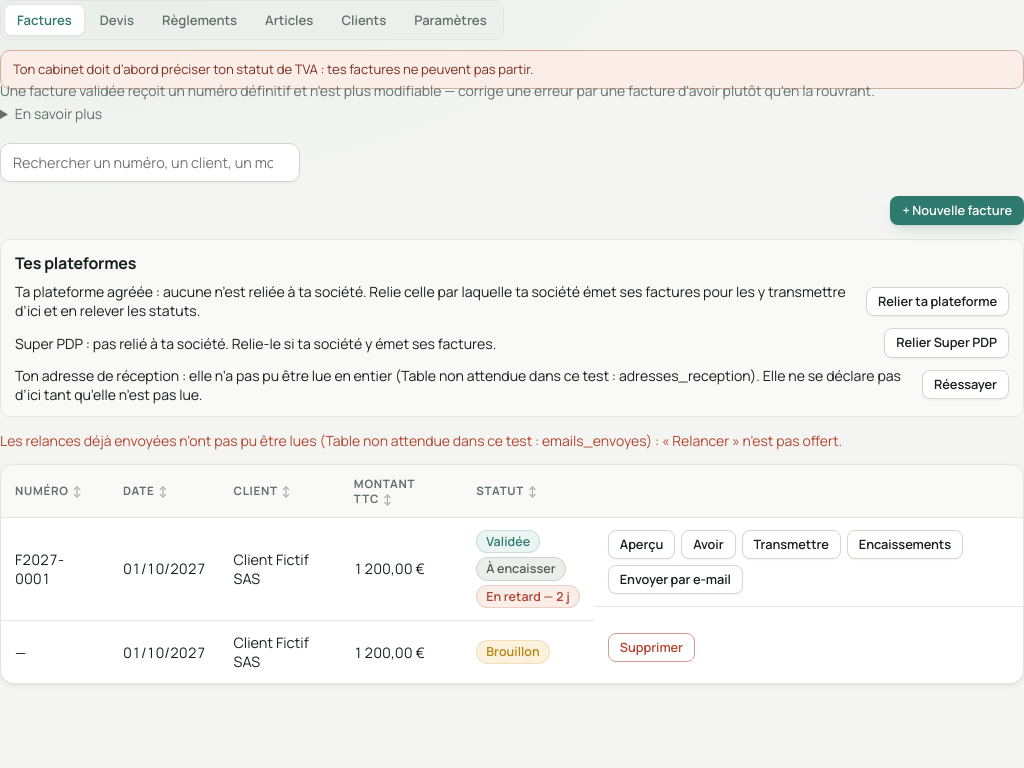
Test: FacturesTab en mode client — le garde des mots › les encaissements, statut de TVA à préciser, sans « Banque » : rien du cabinet dans ce que lit le client
This screenshot has width=1024, height=768.
expect the text "F2027-0001" is shown: met, box [15,550,64,588]
Click the button "Encaissements" at [905, 544], box [847,530,963,559]
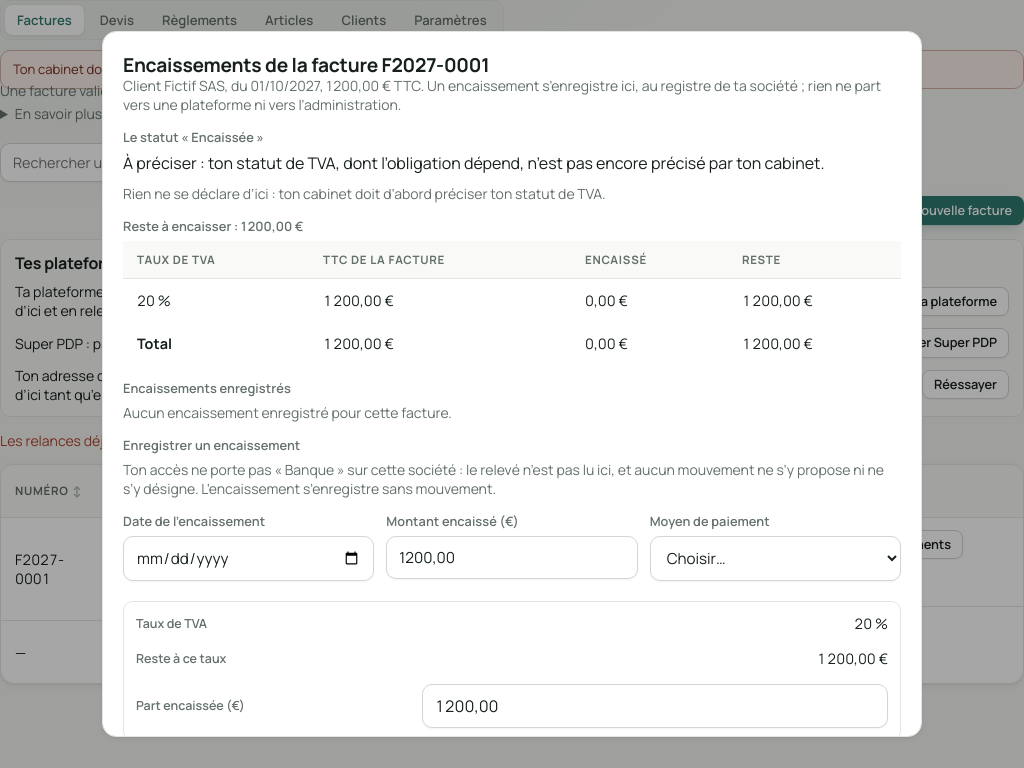
expect the text "Reste à encaisser : 1 200,00 €" is shown: met, box [123,217,304,235]
